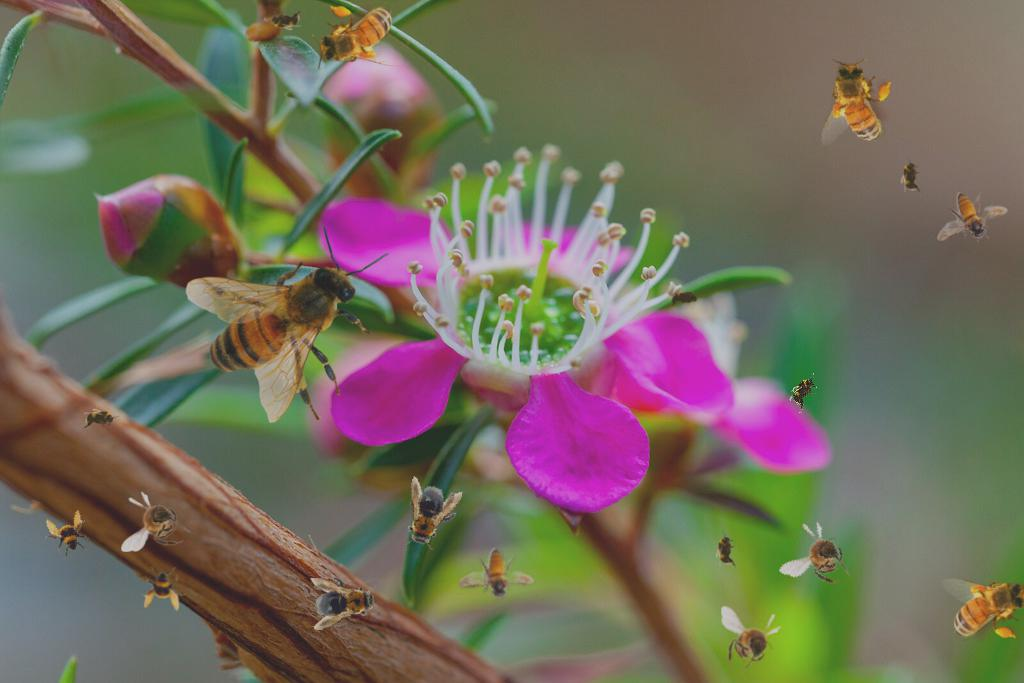Bee: (185, 224, 389, 423), (815, 52, 899, 157), (778, 514, 865, 596), (312, 2, 405, 70), (456, 539, 542, 612), (941, 574, 1024, 642), (394, 476, 464, 556), (308, 571, 382, 631), (721, 606, 782, 676), (121, 491, 191, 552), (937, 192, 1008, 242), (38, 506, 96, 564), (142, 567, 186, 611), (783, 368, 825, 414), (80, 408, 120, 430), (715, 530, 737, 570), (900, 156, 922, 196), (665, 288, 705, 310), (265, 9, 305, 31)
